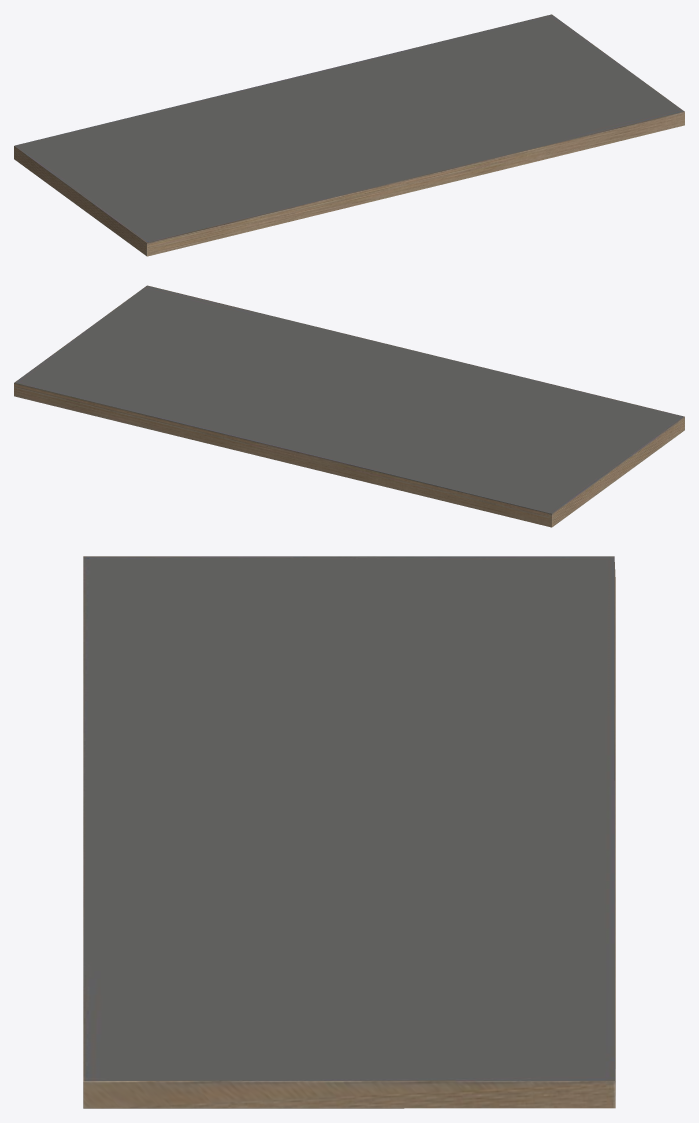
File: lagkapten_tabletop_dark_gray_wood_effect.glb
3 renders of one model, top to bottom at view 1: azimuth 30°, elevation 25°; view 2: azimuth 150°, elevation 25°; view 3: azimuth 270°, elevation 25°, orthographic. The views are drawn at different scales.
Parts seen in each view (by area): view 1: ASY_ART_50596187_S01_NV01; view 2: ASY_ART_50596187_S01_NV01; view 3: ASY_ART_50596187_S01_NV01.
Boxes of the visible parts, <box> form: ASY_ART_50596187_S01_NV01: <box>14,14,684,256</box>; ASY_ART_50596187_S01_NV01: <box>14,285,684,527</box>; ASY_ART_50596187_S01_NV01: <box>83,556,615,1108</box>.
Bounding box in the file's own units: 1.4 × 0.0342 × 0.5998.
Materials: 1 (1 with a texture image).
